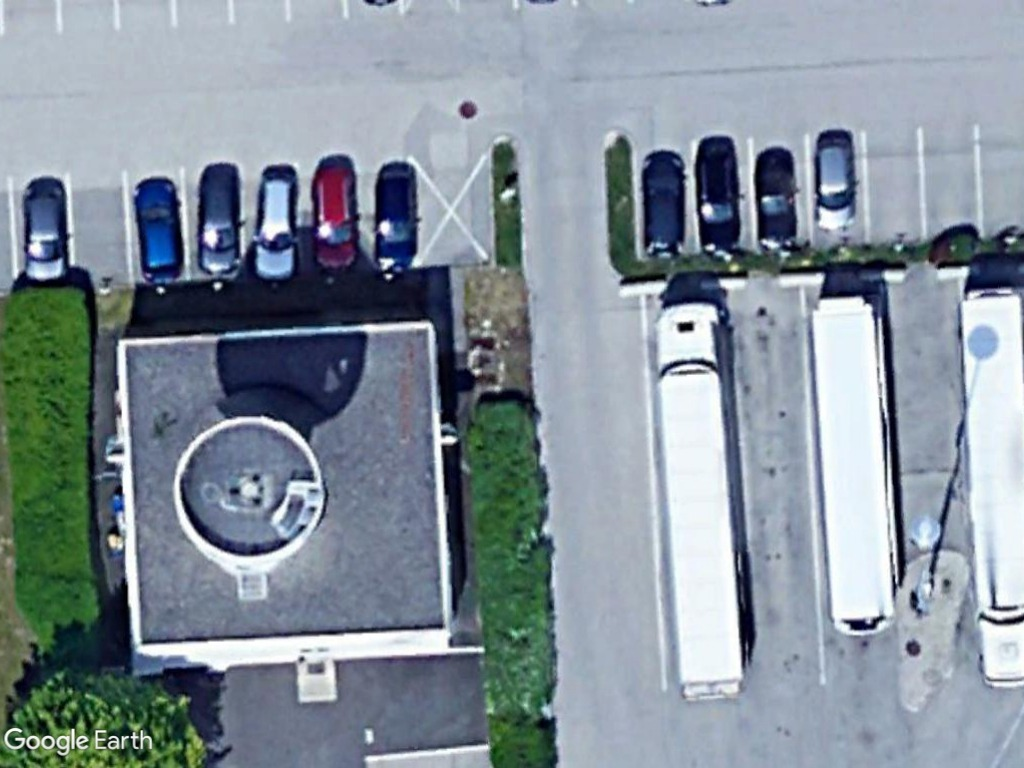car: (129, 175, 189, 284), (692, 145, 746, 254), (367, 167, 423, 272), (307, 163, 360, 273), (639, 147, 690, 259), (197, 161, 245, 278), (251, 170, 300, 282), (754, 150, 802, 253), (813, 134, 860, 239), (23, 185, 72, 285)
longvehicle: (655, 297, 747, 708)
